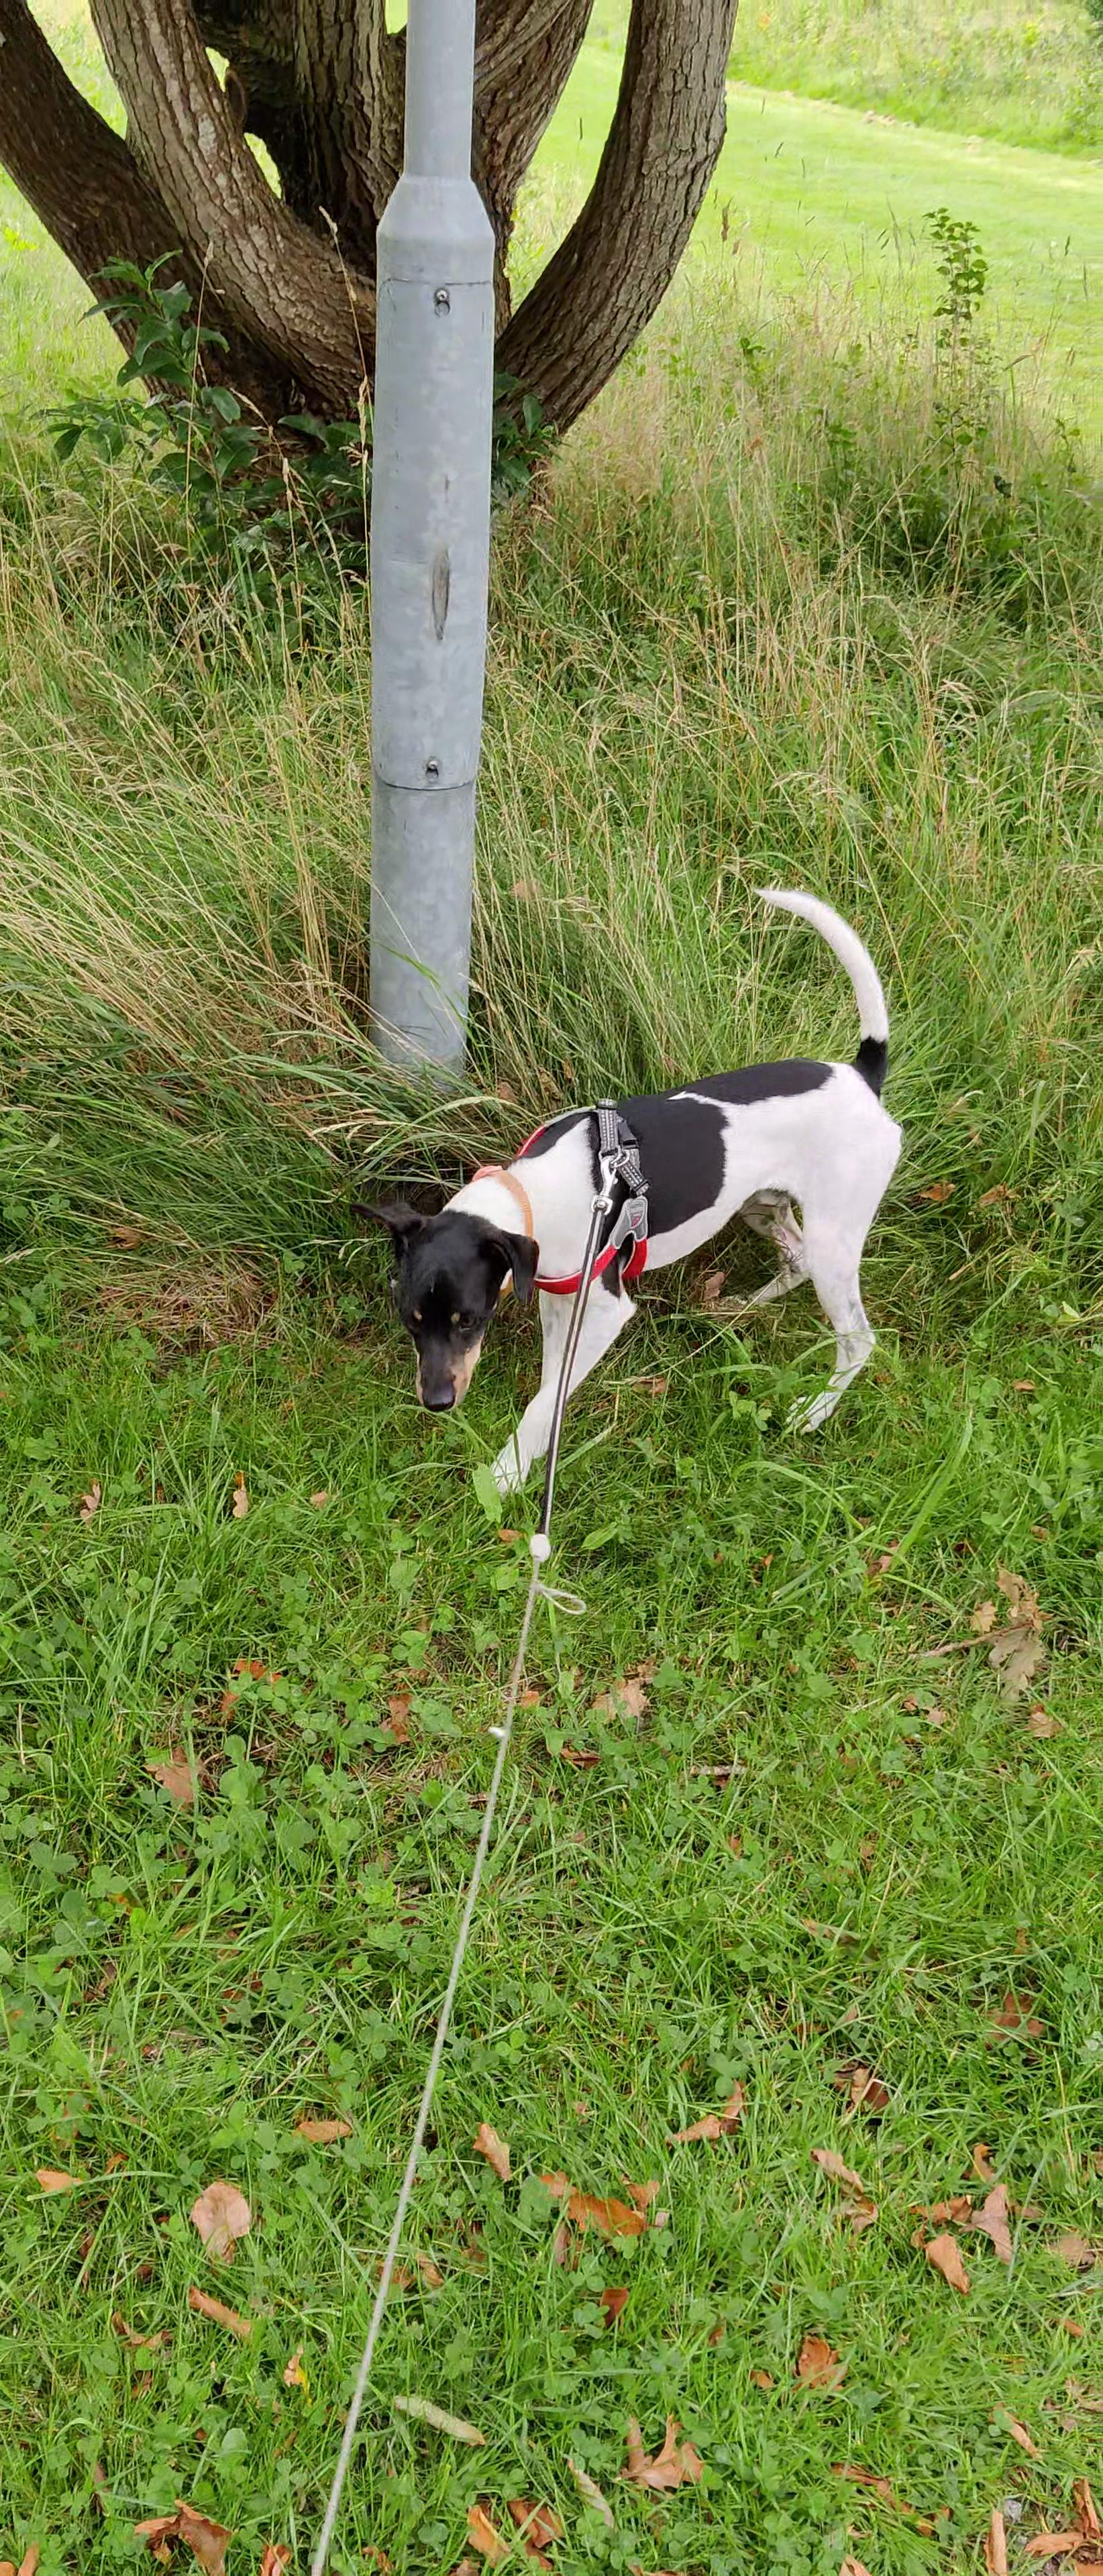Dog: (339, 879, 914, 1508)
